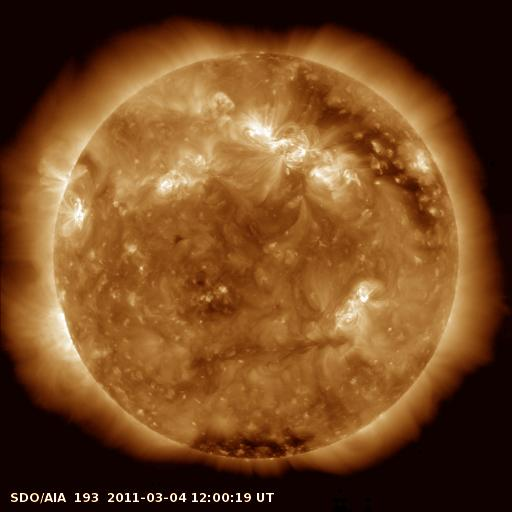coronal_hole: (268, 54, 438, 236), (189, 429, 310, 462)
